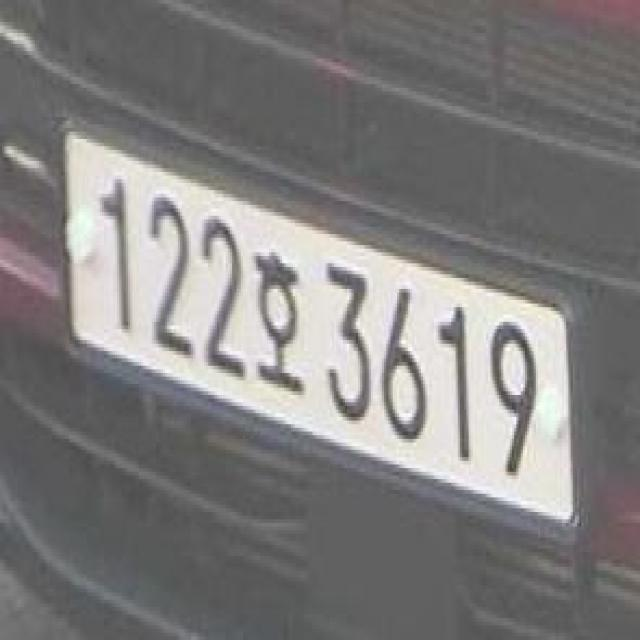illegal_plate: (59, 121, 568, 536)
